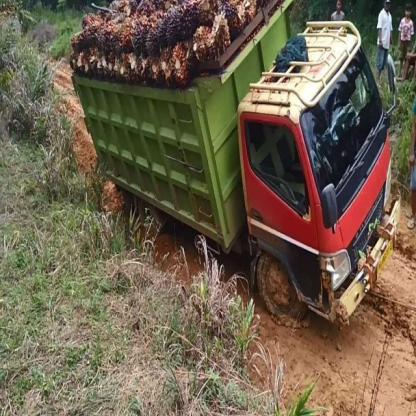truck: (70, 1, 401, 340)
